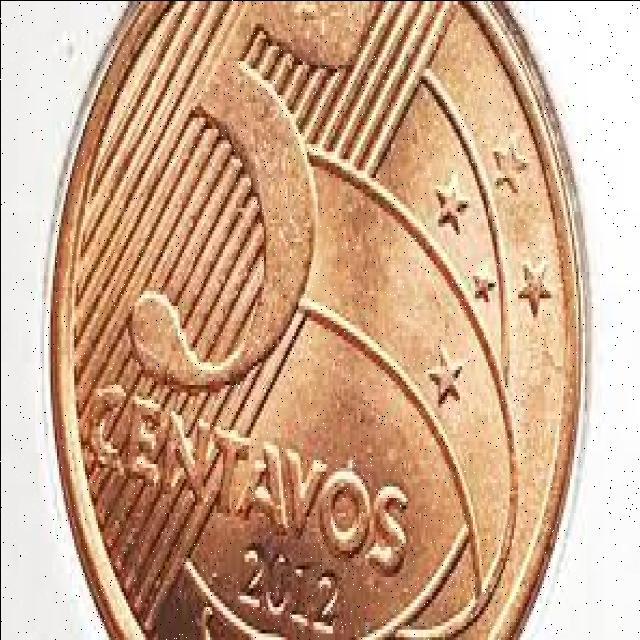5 cent: (66, 0, 556, 636)
